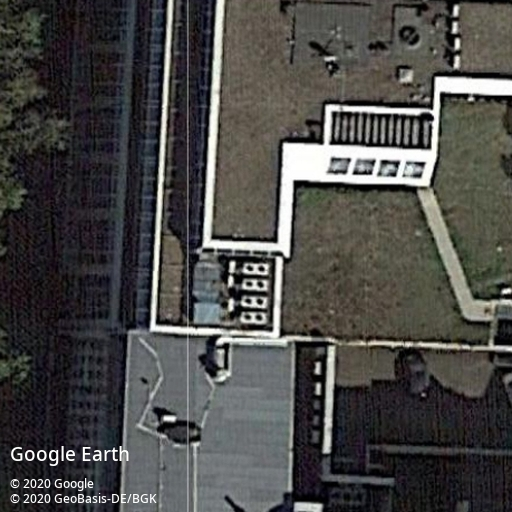Chiller: (241, 260, 272, 275), (240, 276, 271, 291), (239, 294, 270, 309), (239, 309, 270, 324)
